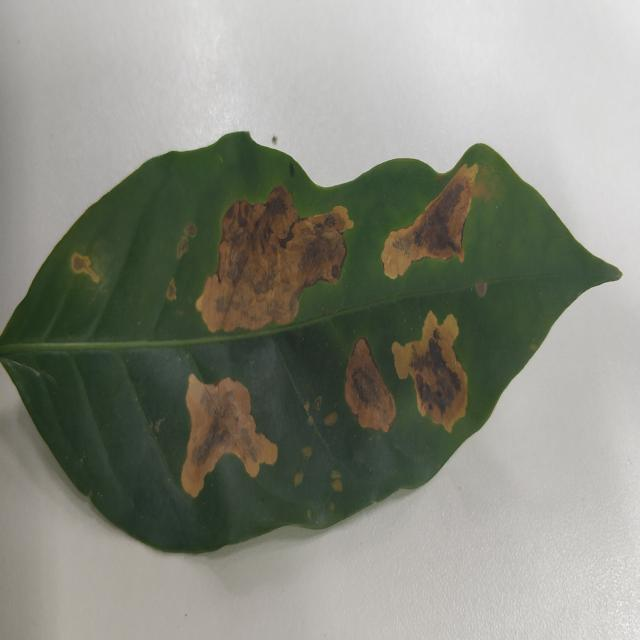Plaga-Minador: (0, 132, 624, 556)
